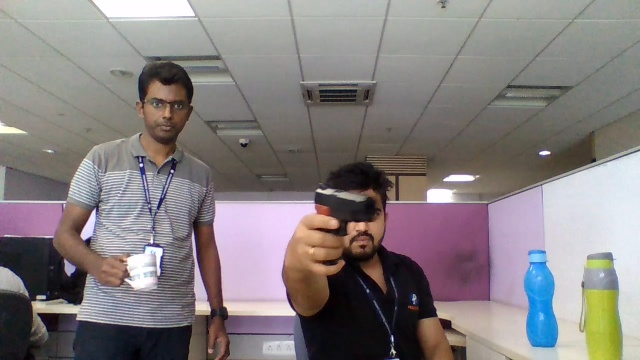gun: (312, 184, 375, 236)
